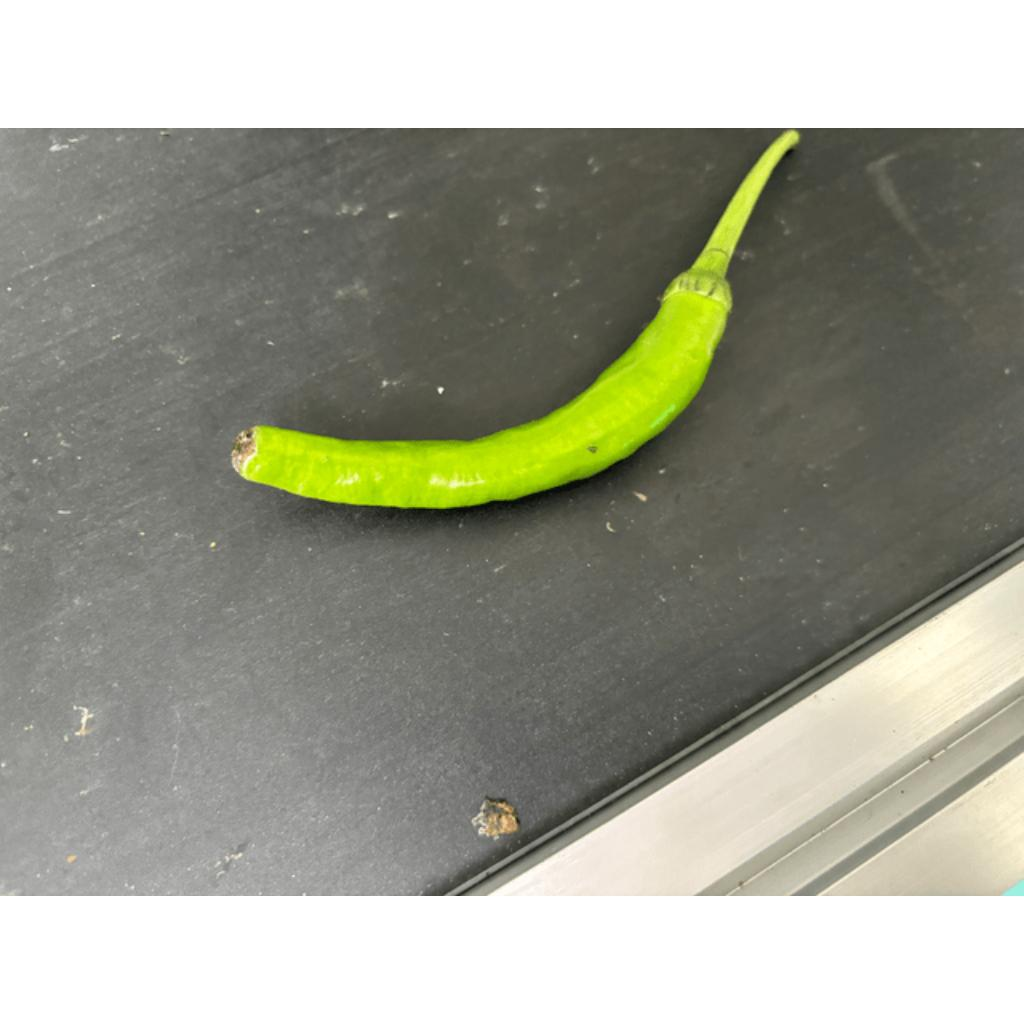chili: (224, 268, 738, 509)
